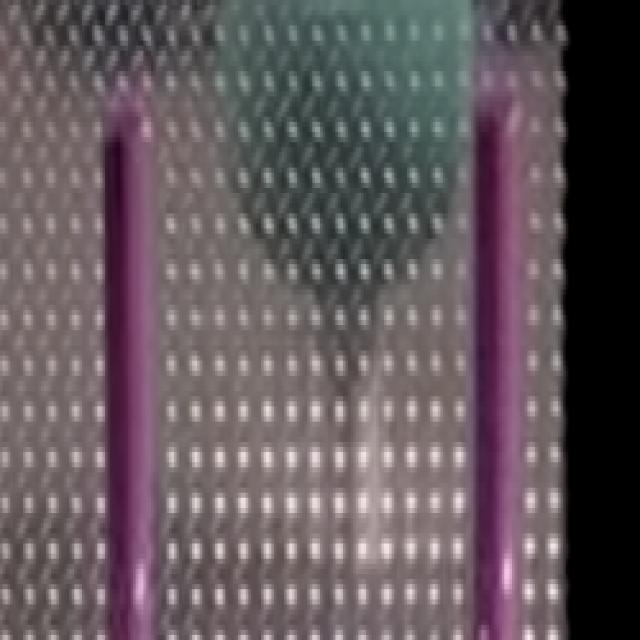Reef: (471, 100, 526, 640), (104, 91, 156, 640)
